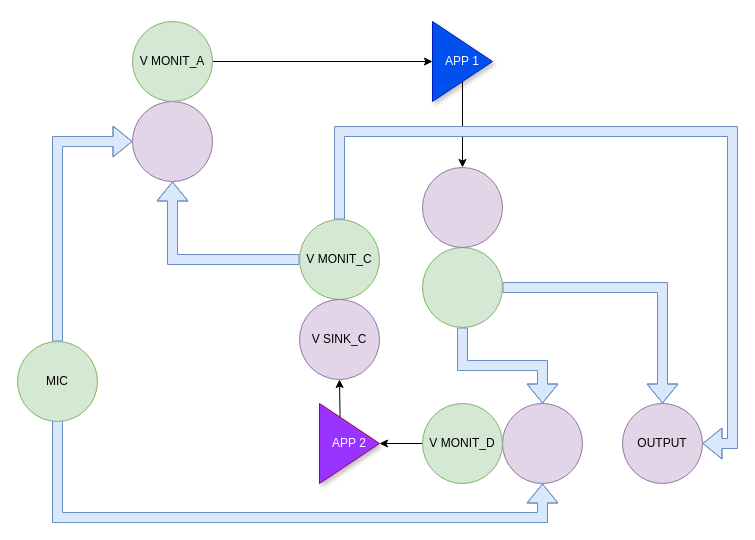
Image size: 755x540. Some labels were removed from this diagram. The shapes that lost their labels are listed below. From the top down, each one's centre as x and y in pixels, then its label:
At [172,141]: "V SINK_A".
At [462,207]: "V SINK_B".
At [462,287]: "V MONIT_B".
At [542,443]: "V SINK_D".
